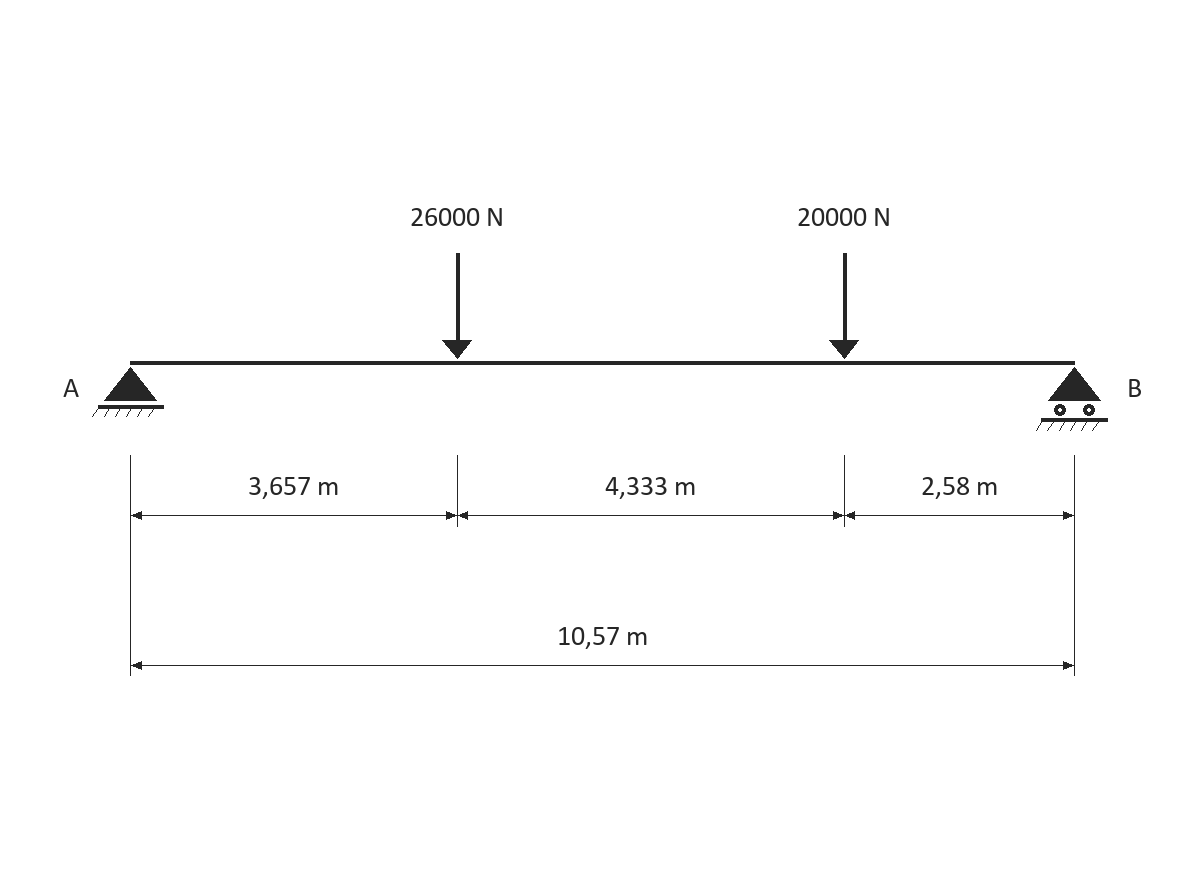pin_support: (92, 367, 164, 417)
point_load: (442, 253, 472, 359), (829, 253, 859, 359)
roller_support: (1036, 367, 1108, 431)
